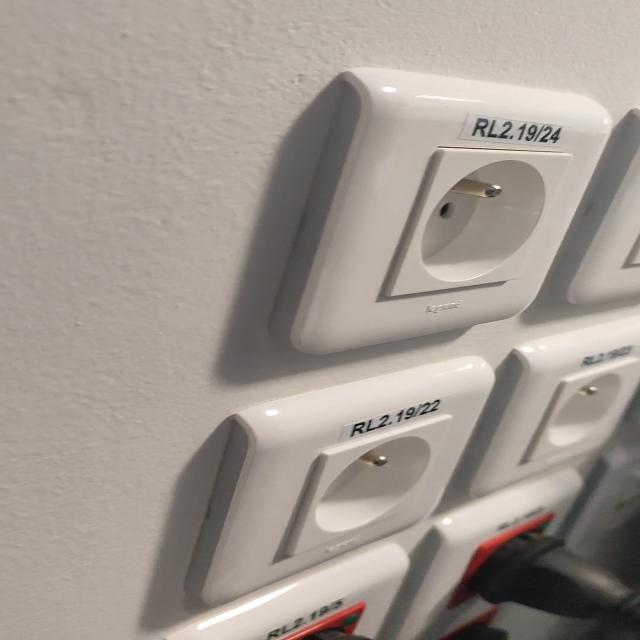house plug: (385, 147, 574, 298), (283, 415, 447, 559), (527, 350, 633, 462)
